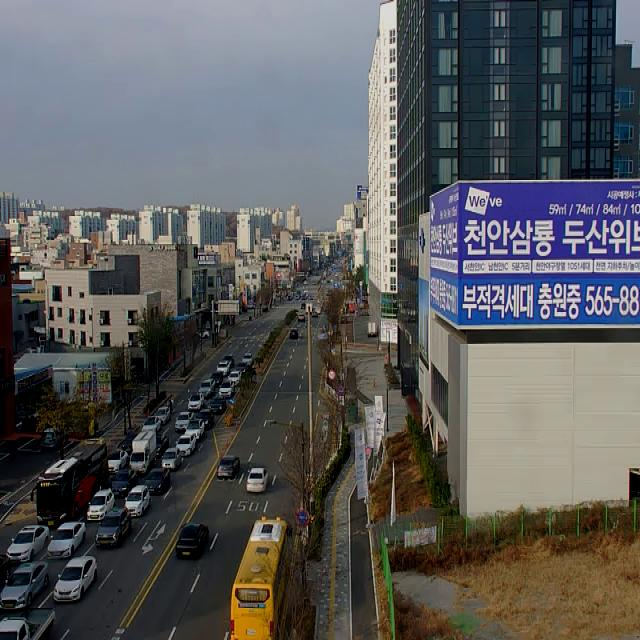Bus: (230, 514, 291, 640), (31, 442, 108, 527)
Car: (0, 562, 49, 612), (54, 556, 97, 603), (7, 525, 49, 564), (48, 521, 86, 559), (96, 507, 131, 548), (177, 523, 209, 557), (87, 488, 115, 521), (111, 470, 138, 498), (125, 486, 150, 516), (144, 467, 170, 495), (40, 427, 66, 451), (107, 449, 128, 475), (217, 455, 240, 477), (247, 468, 268, 492), (162, 448, 181, 471), (184, 419, 204, 440), (177, 434, 196, 456), (196, 409, 214, 430), (0, 554, 11, 587), (175, 412, 193, 432), (208, 395, 226, 414), (198, 378, 215, 398), (122, 432, 138, 453), (188, 393, 205, 411), (154, 407, 171, 425), (142, 416, 160, 433), (156, 434, 169, 457), (228, 370, 242, 386), (220, 382, 234, 398), (210, 372, 223, 386), (217, 363, 229, 376), (236, 362, 247, 374), (223, 356, 234, 367), (242, 354, 252, 366), (196, 331, 209, 338), (290, 329, 298, 339), (298, 314, 305, 322)
Motorcycle: (169, 398, 172, 414)
Truck: (0, 607, 56, 640), (129, 430, 156, 475), (368, 322, 377, 336)
